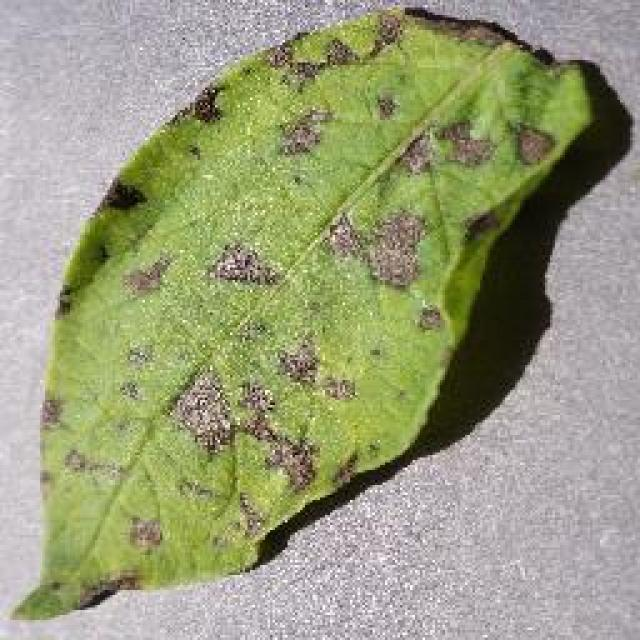Potato___Early_blight: (4, 3, 596, 628)
